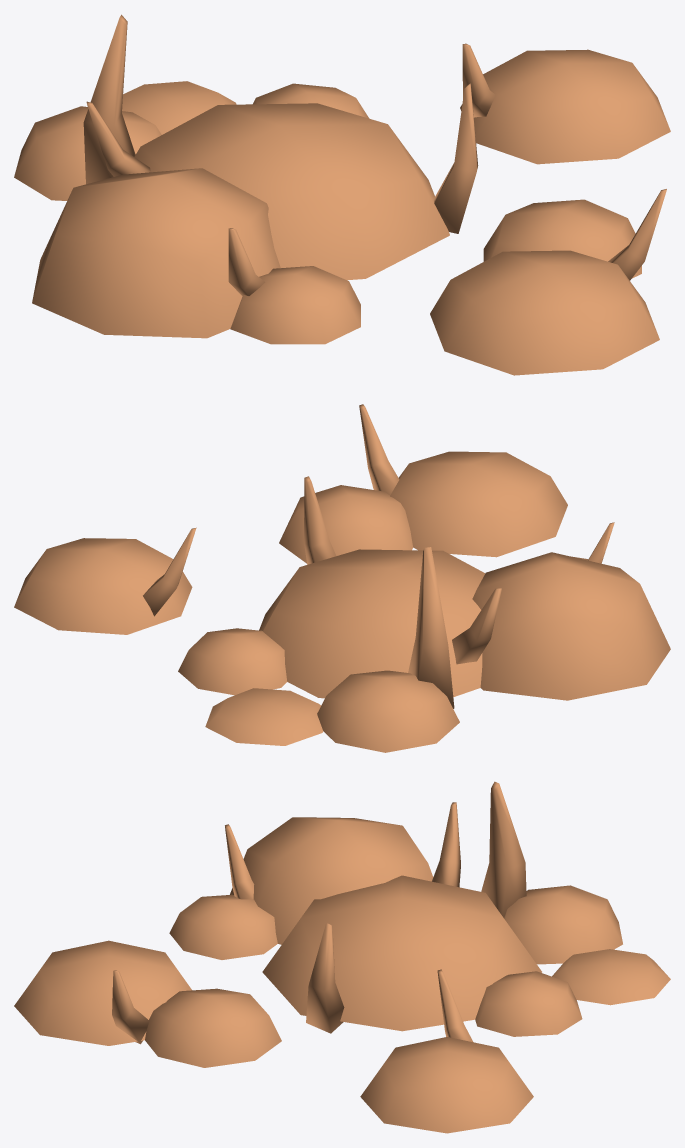
File: SM_Goo.fbx
The picture shows the model from 3 angles, top to bottom: view 1: azimuth 30°, elevation 25°; view 2: azimuth 150°, elevation 25°; view 3: azimuth 270°, elevation 25°; orthographic projection. The views are drawn at different scales.
Parts seen in each view (by area): view 1: SM_goo; view 2: SM_goo; view 3: SM_goo.
Part boxes in pixels (box(x1,y1,x2,y2)): SM_goo: box(14, 14, 670, 375); SM_goo: box(14, 404, 670, 752); SM_goo: box(14, 781, 670, 1133).
Size of the model in its own units: 1.96 by 0.5252 by 2.
